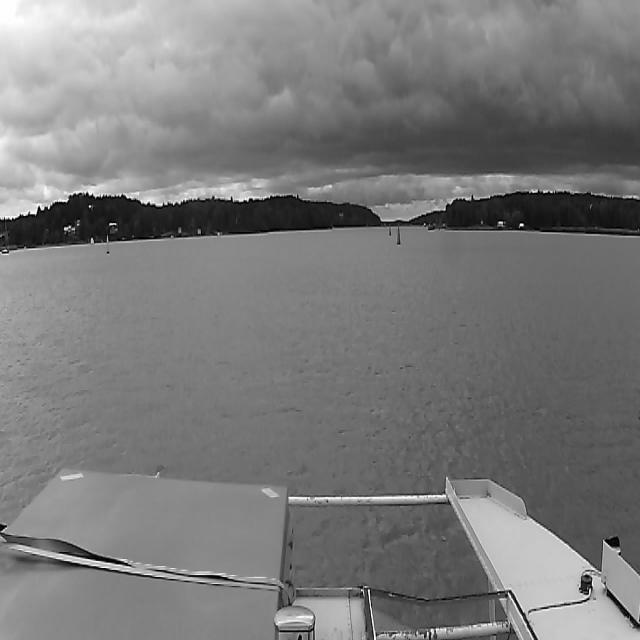buoy: (396, 225, 400, 245), (106, 236, 110, 254), (388, 225, 392, 236)
